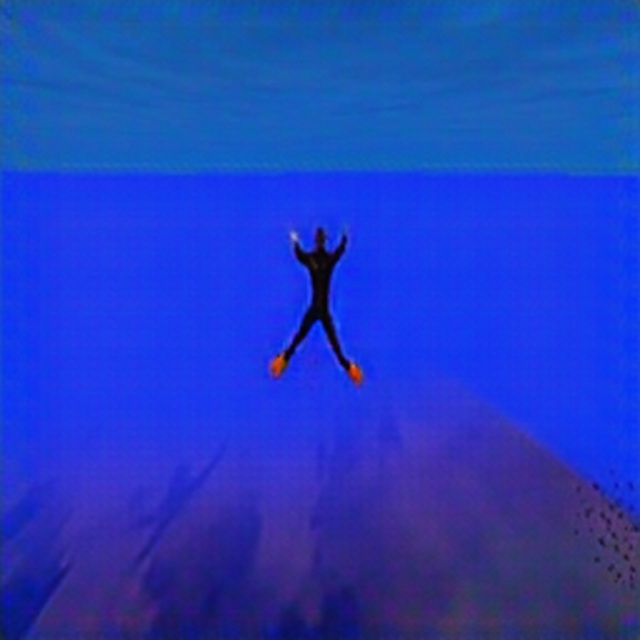diver: (270, 216, 365, 389)
